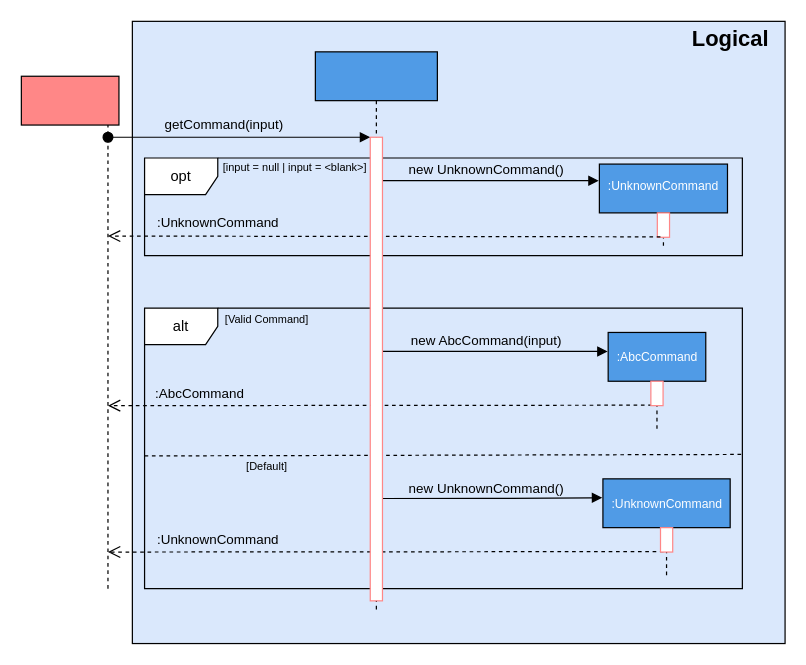
Image size: 806x665. Some labels were removed from this diagram. The shapes that lost their labels are listed below. From the top down, each one's box as (x1, y1, x2, y2) in pixels, then its label:
(20, 75, 119, 125): Called getCommand()
(314, 51, 437, 613): :Parser
